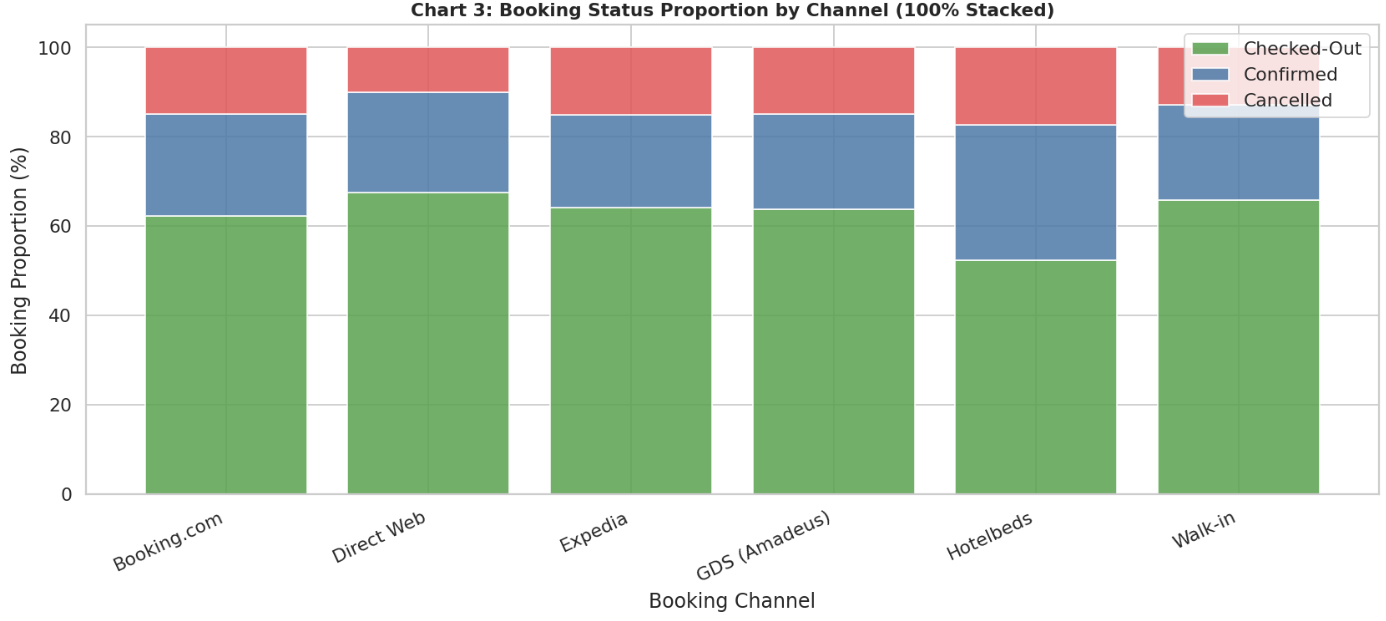

The page's visual inventory and layout, read from the dashboard file:
{"tool":"powerbi","page":{"name":"Page 3","canvas":[1280,720],"ordinal":2},"visuals":[{"type":"hundredPercentStackedBarChart","fields":{"Category":["dim_channels (1).channel_name"],"Y":["CountNonNull(fact_bookings (1).booking_id)"],"Series":["fact_bookings (1).status"]},"box":[138.9,70.8,938.7,562.4],"z":0}]}

Visuals, with their boxes on the page's 1280x720 design canvas (x1, y1, x2, y2). These are canvas units, not pixel positions in the 1386x621 screenshot, which may show the page scaled, cropped or inside an application window:
hundredPercentStackedBarChart - dim_channels (1).channel_name x CountNonNull(fact_bookings (1).booking_id): l=139, t=71, r=1078, b=633
